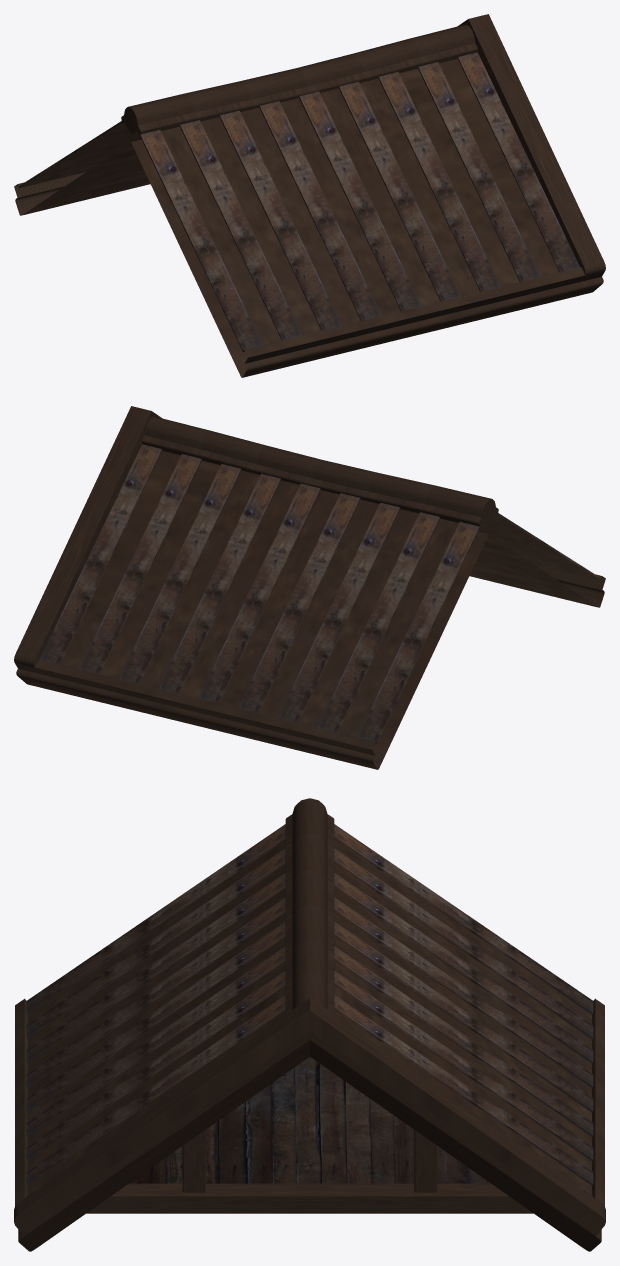
Rendered from OutdoorArchitecture_Roof01_Planks01_BShortt.fbx.
3 views of the same model, one above another, from view 1: azimuth 30°, elevation 25°; view 2: azimuth 150°, elevation 25°; view 3: azimuth 270°, elevation 25° (orthographic). The views are drawn at different scales.
Visible parts, largest first — view 1: OutdoorArchitecture_Roof01_Planks01_BShortt; view 2: OutdoorArchitecture_Roof01_Planks01_BShortt; view 3: OutdoorArchitecture_Roof01_Planks01_BShortt.
Part boxes in pixels (x1,y1,x2,y2): OutdoorArchitecture_Roof01_Planks01_BShortt: [14, 14, 605, 377]; OutdoorArchitecture_Roof01_Planks01_BShortt: [14, 406, 605, 769]; OutdoorArchitecture_Roof01_Planks01_BShortt: [14, 798, 605, 1251].
Bounding box in the file's own units: 337 × 176 × 383.
